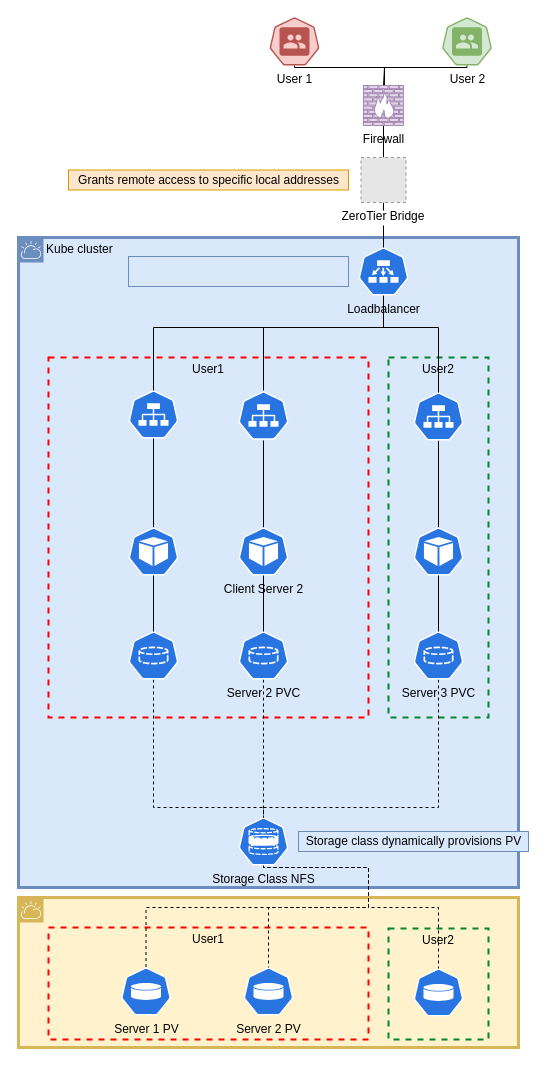
This 546x1066 diagram has some shape labels left out. Grey dashed boxes stand in for pictures. The box of each missing label's shape, as (x1, y1, x2, y2) in pixels:
Client Server 1: (128, 526, 178, 576)
Client Server 3: (412, 526, 464, 576)
Loadbalancer provisions each service with a unique internal ip adress: (128, 256, 348, 286)
NFS Storage: (16, 896, 520, 1048)
Server 1 PVC: (128, 630, 178, 680)
Server 3 PV: (412, 968, 464, 1016)
Service 1: (128, 390, 178, 438)
Service 2: (238, 390, 288, 440)
Service 3: (412, 392, 464, 440)
